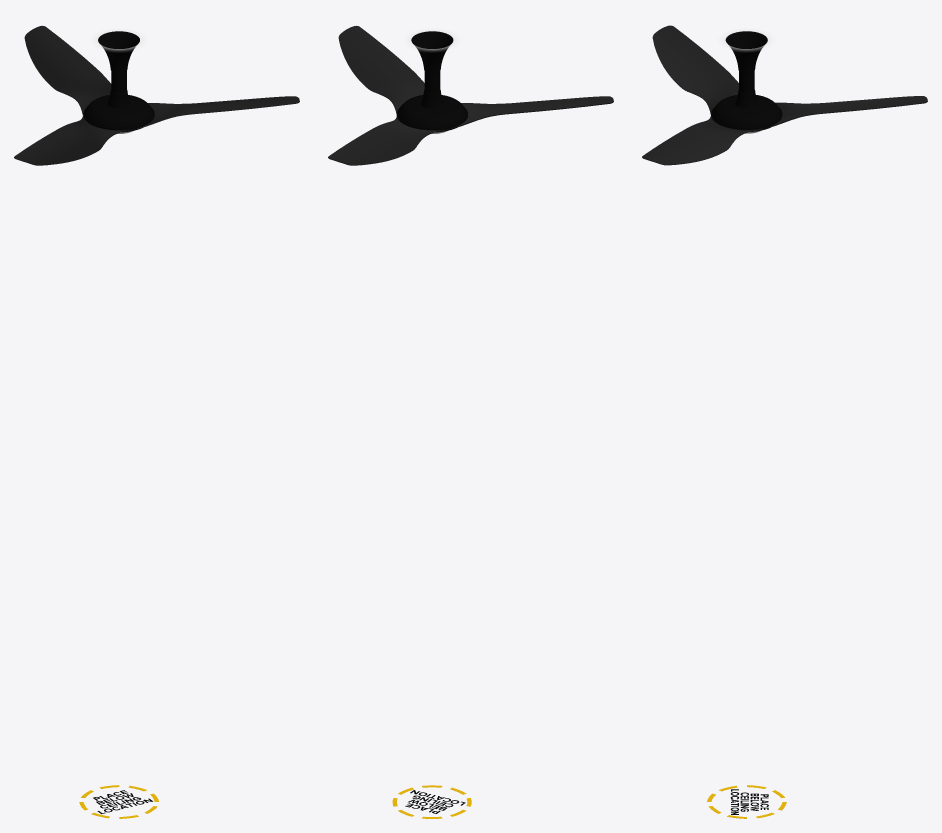
The model's file is haiku-black_aluminum-black-52-low_profile-led-10ft.glb.
The picture shows the model from 3 angles, left to right: view 1: azimuth 30°, elevation 25°; view 2: azimuth 150°, elevation 25°; view 3: azimuth 270°, elevation 25°; orthographic projection.
Parts seen in each view (by area): view 1: Foils_52inch_foils_0, MotorCover_hardware_0, Mount_LowProfile_hardware_0, FloorMarker; view 2: Foils_52inch_foils_0, Mount_LowProfile_hardware_0, MotorCover_hardware_0, FloorMarker; view 3: Foils_52inch_foils_0, Mount_LowProfile_hardware_0, MotorCover_hardware_0, FloorMarker.
Boxes of the visible parts, x1,y1,x2,y2 form: Foils_52inch_foils_0: [14, 25, 299, 165]; MotorCover_hardware_0: [83, 95, 154, 130]; Mount_LowProfile_hardware_0: [98, 31, 139, 108]; FloorMarker: [79, 785, 158, 818]; Foils_52inch_foils_0: [328, 25, 613, 165]; Mount_LowProfile_hardware_0: [411, 31, 453, 108]; MotorCover_hardware_0: [396, 95, 467, 130]; FloorMarker: [392, 785, 471, 818]; Foils_52inch_foils_0: [642, 25, 927, 165]; Mount_LowProfile_hardware_0: [725, 31, 767, 108]; MotorCover_hardware_0: [711, 95, 782, 129]; FloorMarker: [707, 785, 786, 818].
Bounding box in the file's own units: 116 × 305 × 104.
Materials: 7 (1 with a texture image).
